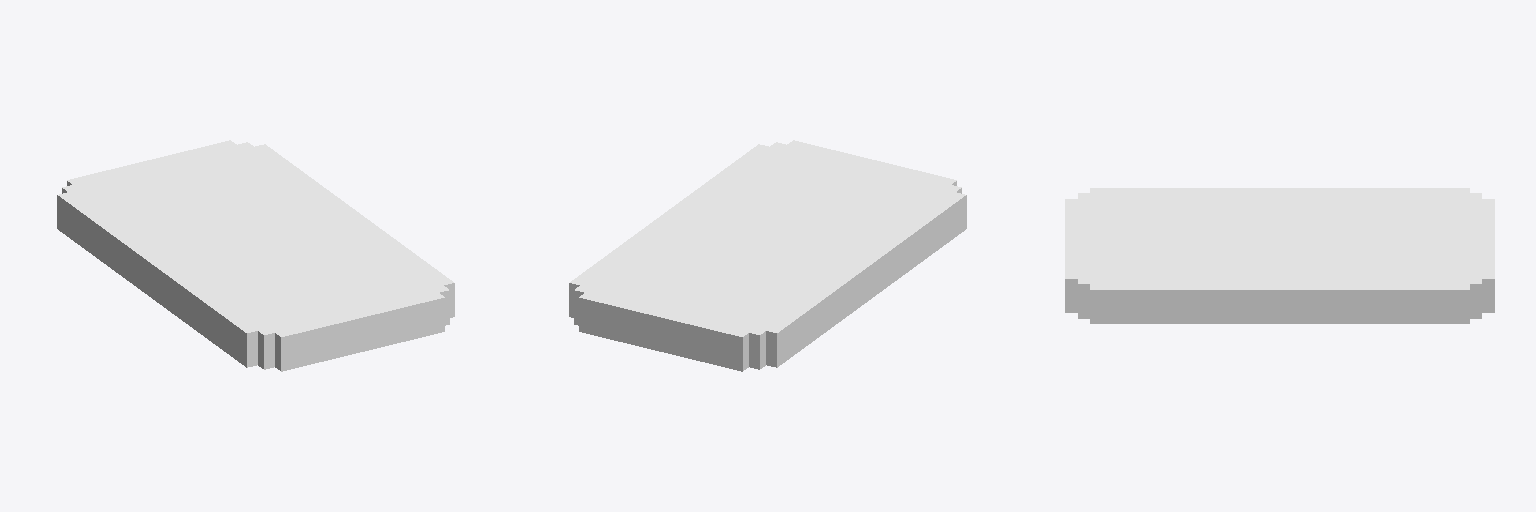
The model's file is V_Phone.obj.
3 renders of one model, left to right at view 1: azimuth 30°, elevation 25°; view 2: azimuth 150°, elevation 25°; view 3: azimuth 270°, elevation 25°, orthographic.
Visible parts, largest first — view 1: object 1; view 2: object 1; view 3: object 1.
Boxes of the visible parts, x1=… form: object 1: x1=57, y1=140, x2=454, y2=371; object 1: x1=569, y1=140, x2=966, y2=371; object 1: x1=1065, y1=188, x2=1494, y2=323.
Bounding box in the file's own units: 1.9 × 0.3 × 3.4.